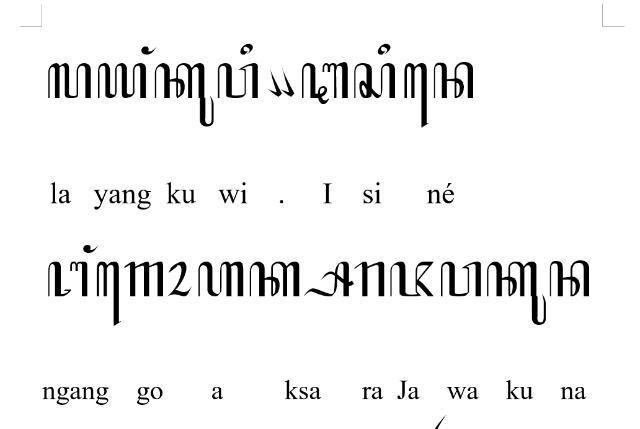I: (302, 61, 348, 105)
_s: (304, 260, 354, 298)
e1: (96, 262, 122, 326), (404, 63, 428, 127)
g: (125, 262, 164, 296)
h: (197, 261, 243, 297)
i: (240, 43, 252, 55), (378, 44, 390, 54)
j: (390, 261, 434, 297)
k: (250, 261, 300, 297)
kom: (268, 67, 282, 97), (280, 66, 294, 96)
ku: (154, 63, 214, 127), (486, 261, 546, 325)
l: (48, 62, 92, 98)
n: (550, 260, 590, 297), (434, 62, 474, 98)
ng: (141, 45, 157, 55), (83, 244, 99, 254)
nga: (48, 261, 88, 297)
o: (166, 260, 192, 298)
r: (354, 261, 384, 297)
s: (353, 63, 395, 98)
w: (218, 63, 258, 99), (440, 262, 482, 296)
y: (98, 62, 146, 98)
